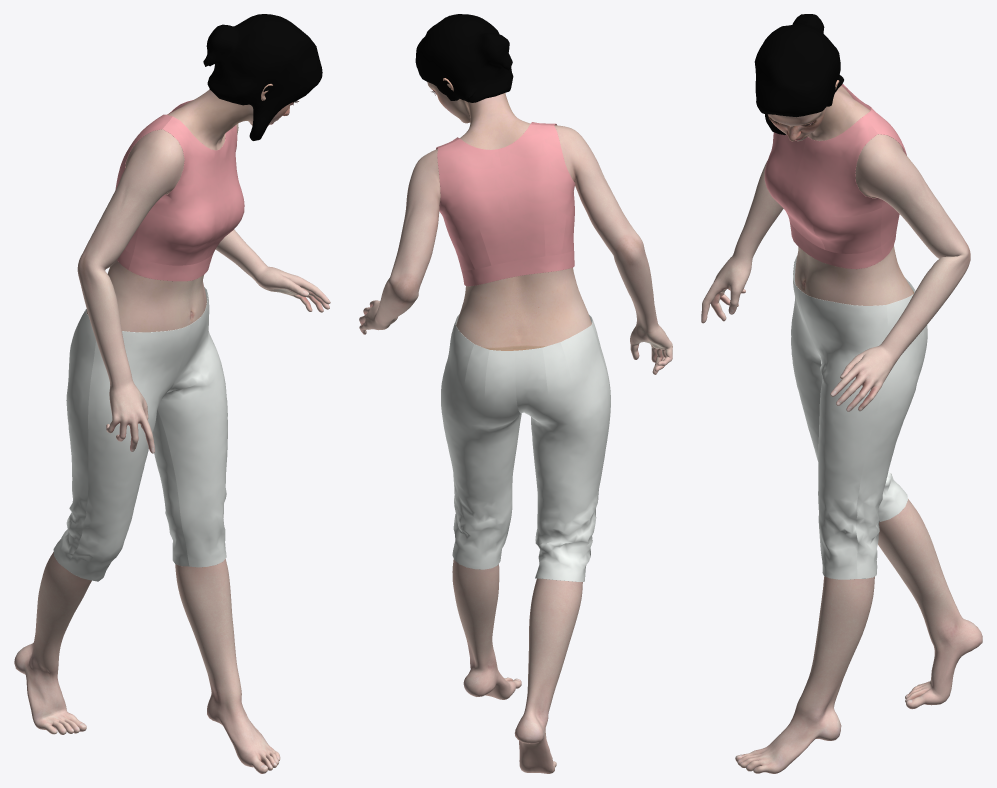
Rendered from random.obj.
3 views of the same model, side by side, from view 1: azimuth 30°, elevation 25°; view 2: azimuth 150°, elevation 25°; view 3: azimuth 270°, elevation 25° (orthographic). The views are drawn at different scales.
Bounding box in the file's own units: 683 × 1739 × 590.
